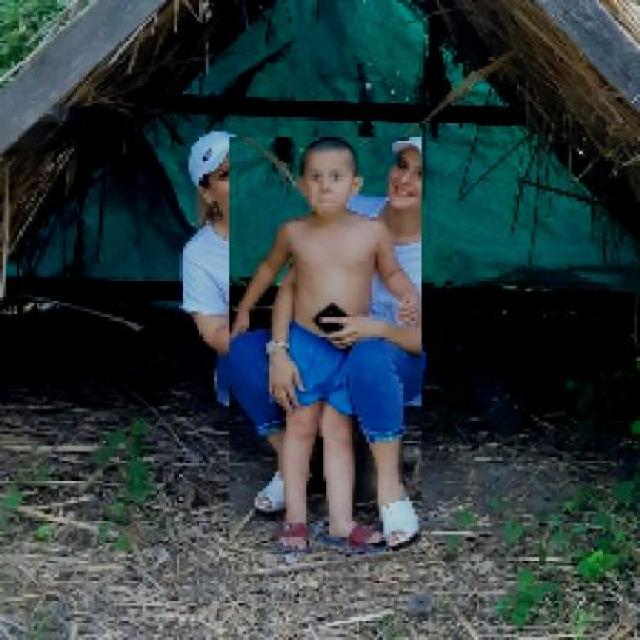child: (228, 137, 422, 554)
